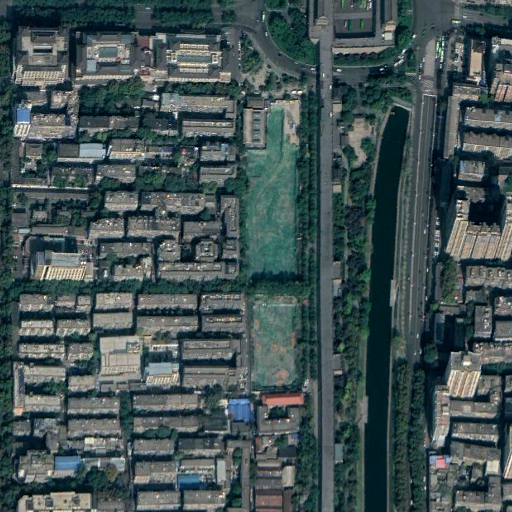cw: (240, 101, 301, 276), (249, 296, 299, 386)
